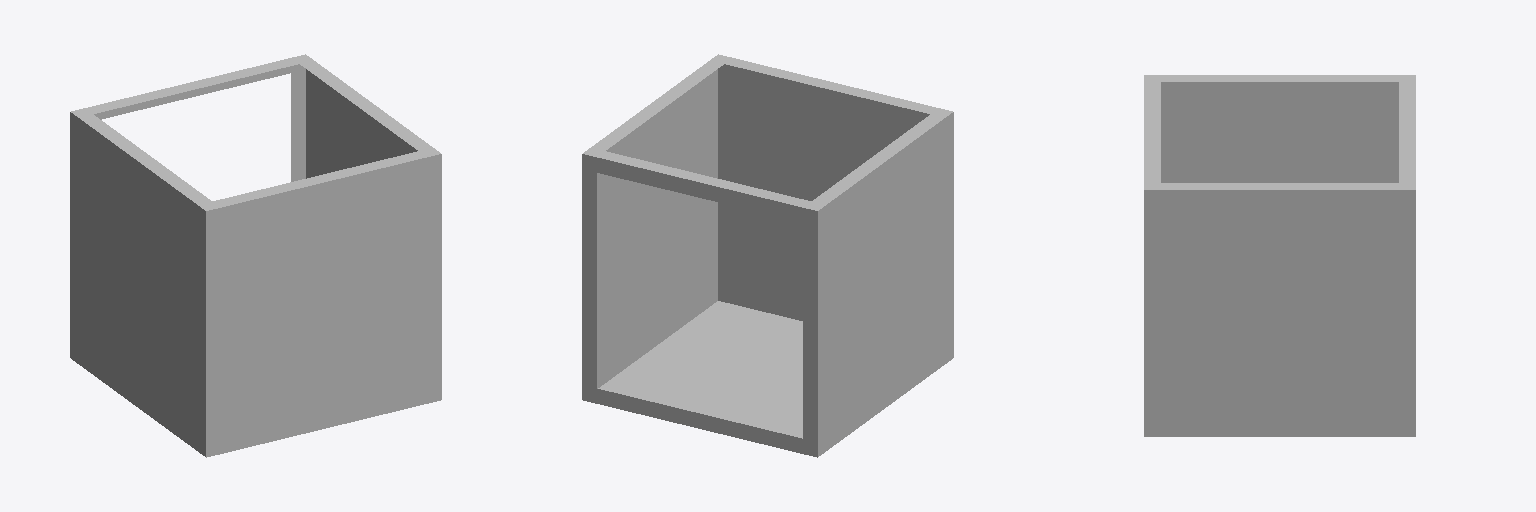
File: normal_cube_edge.obj
3 views of the same model, side by side, from view 1: azimuth 30°, elevation 25°; view 2: azimuth 150°, elevation 25°; view 3: azimuth 270°, elevation 25° (orthographic).
Visible parts, largest first — view 1: normal_cube_edge_body; view 2: normal_cube_edge_body; view 3: normal_cube_edge_body.
Boxes of the visible parts, x1,y1,x2,y2 form: normal_cube_edge_body: [70, 54, 441, 457]; normal_cube_edge_body: [582, 54, 953, 457]; normal_cube_edge_body: [1144, 75, 1415, 436].
Size of the model in its own units: 1 by 1 by 1.